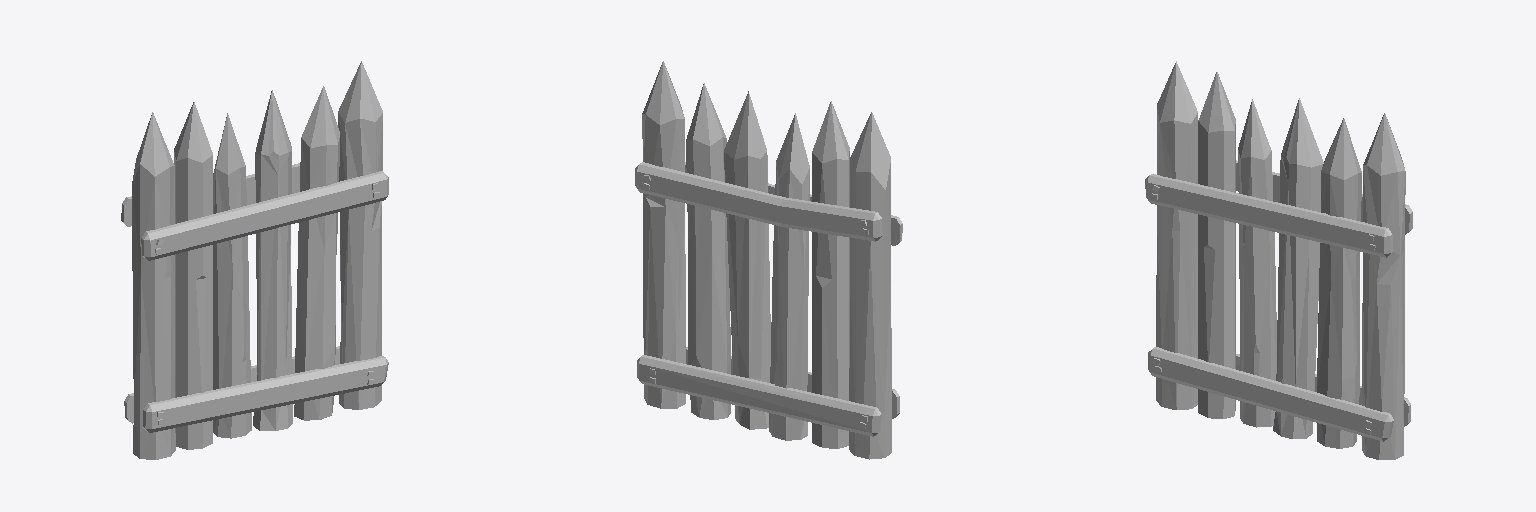
Rendered from Fence_1_1.obj.
3 renders of one model, left to right at view 1: azimuth 30°, elevation 25°; view 2: azimuth 150°, elevation 25°; view 3: azimuth 330°, elevation 25°, orthographic.
Visible parts, largest first — view 1: Fence_1_1; view 2: Fence_1_1; view 3: Fence_1_1.
Part boxes in pixels (left/top/right/bottom): Fence_1_1: left=121, top=61, right=388, bottom=459; Fence_1_1: left=635, top=61, right=902, bottom=459; Fence_1_1: left=1145, top=61, right=1412, bottom=459.
Size of the model in its own units: 1.78 by 2.36 by 0.3678.